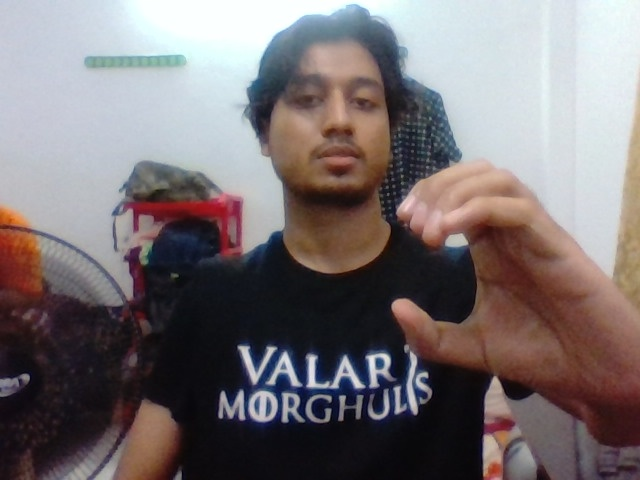C: (367, 151, 564, 370)
